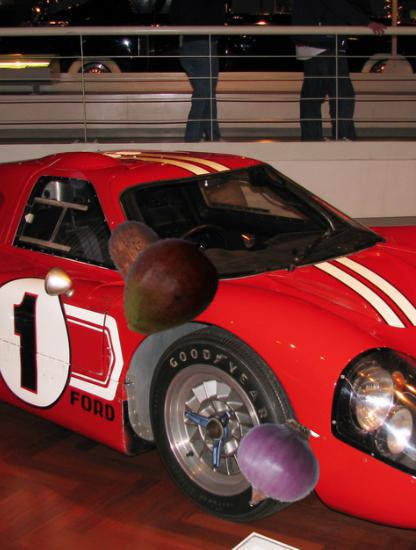Mango: (111, 233, 220, 342)
Nut: (96, 215, 198, 317)
Onion: (229, 418, 325, 514)
